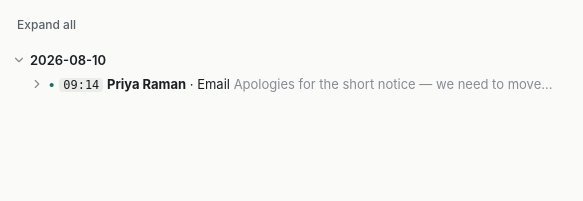
it: a log of records › reaches the quoted chains too when everything is opened at once
Click the button with aria-label "Expand all points in Log" at [46, 25], box left=12, top=12, right=81, bottom=38
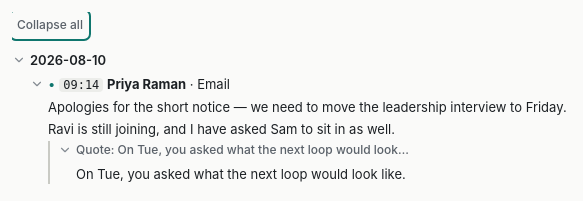
Result: the text "On Tue, you asked what the next loop would look like." is shown at left=76, top=166, right=406, bottom=182
